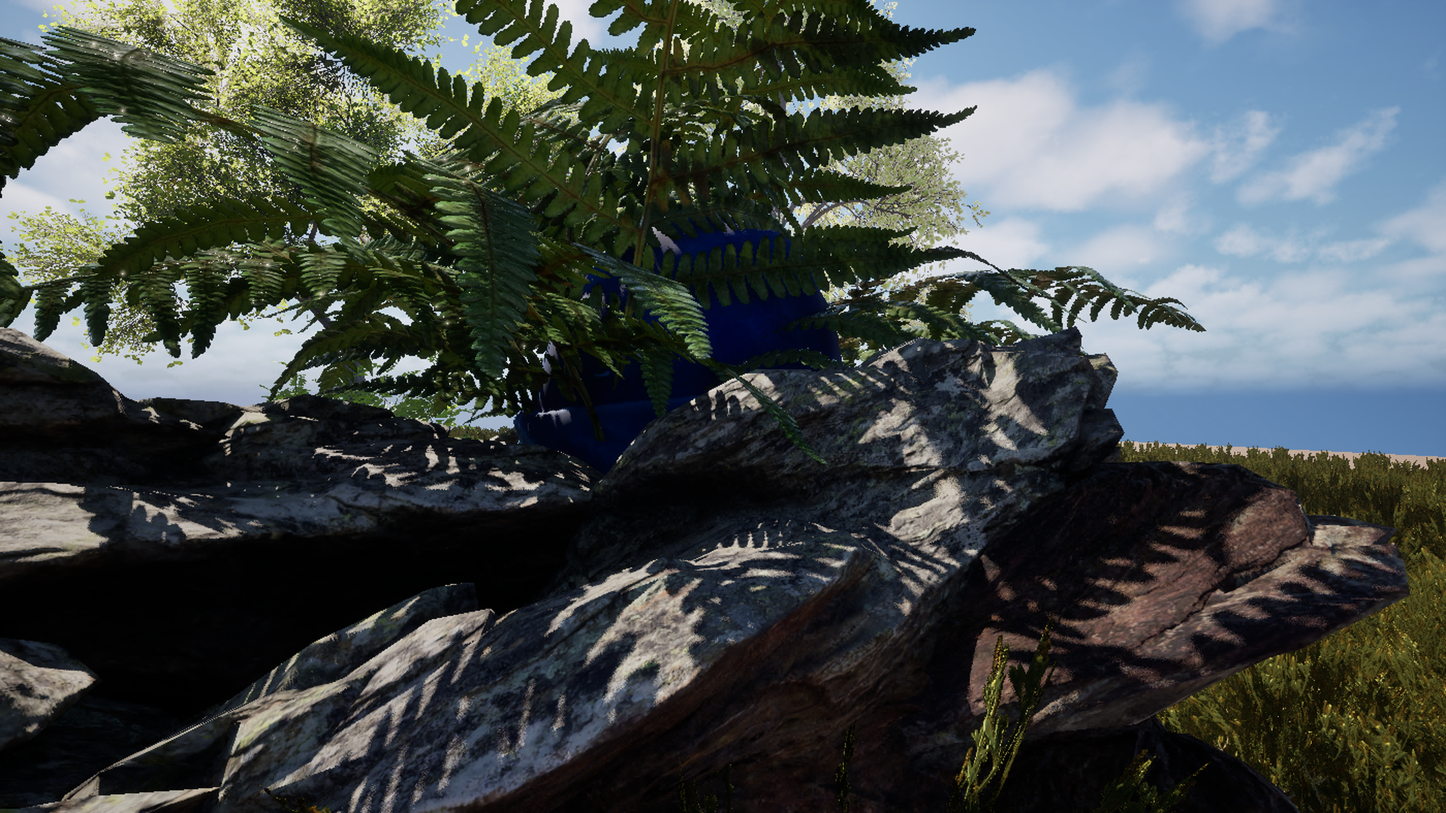Piplup: (435, 48, 1123, 765)
